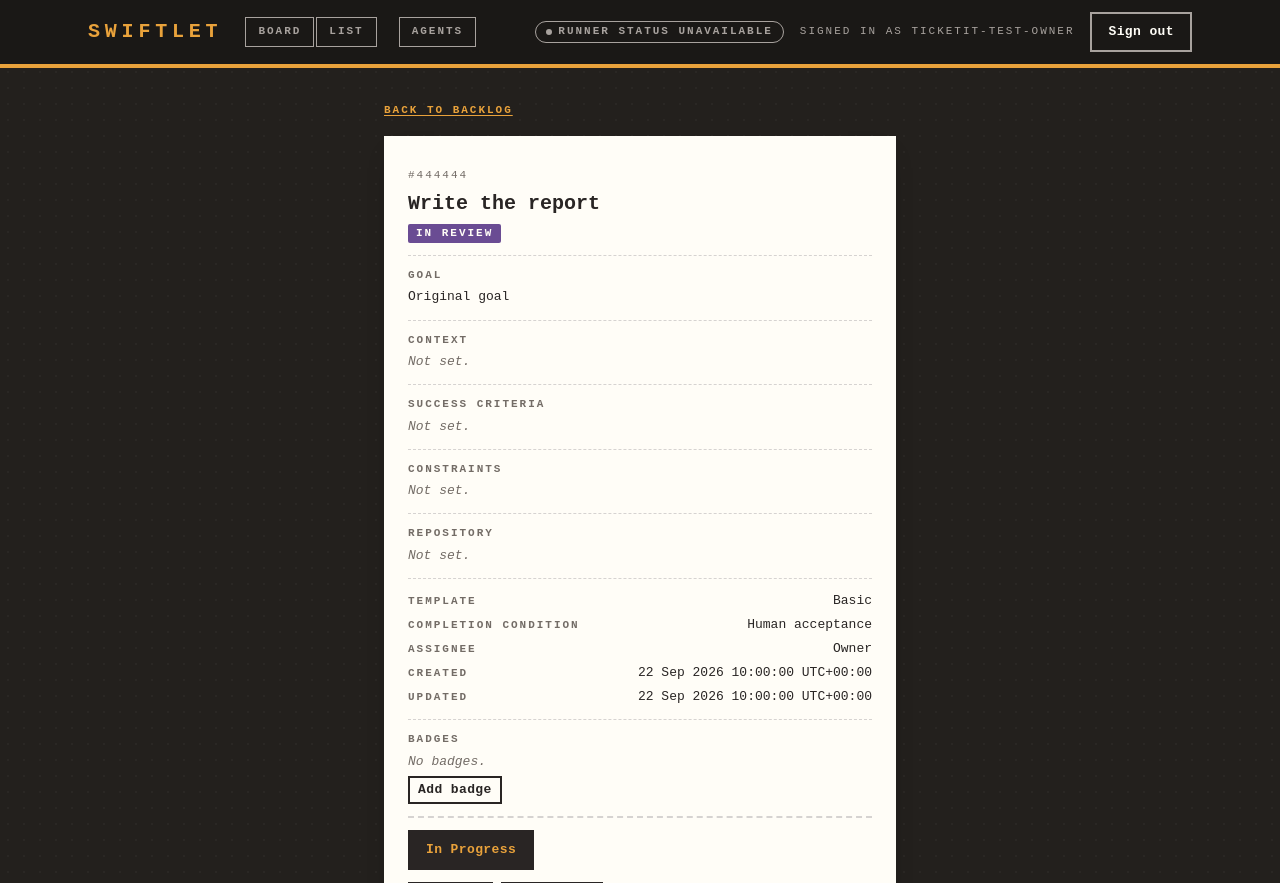
Test: App › returns to sign-in when the Ticket status command returns 401
Expected: the heading "Write the report" is shown, [408,192,600,215]
Click the button with test id "ticket-detail-status-button-InProgress" at (471, 850), box [408,830,534,870]
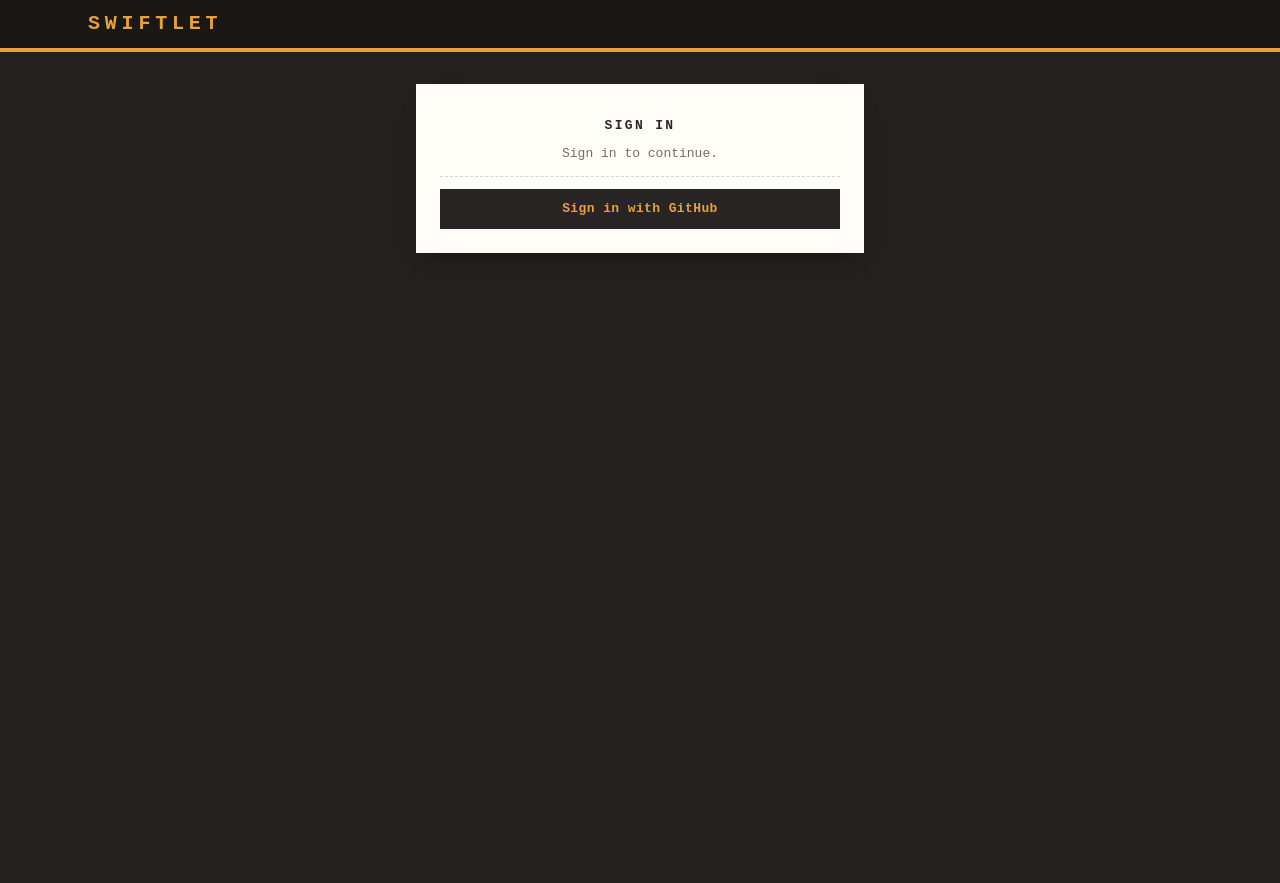
Result: the element with test id "sign-in-page" is shown at [416,84,864,253]
